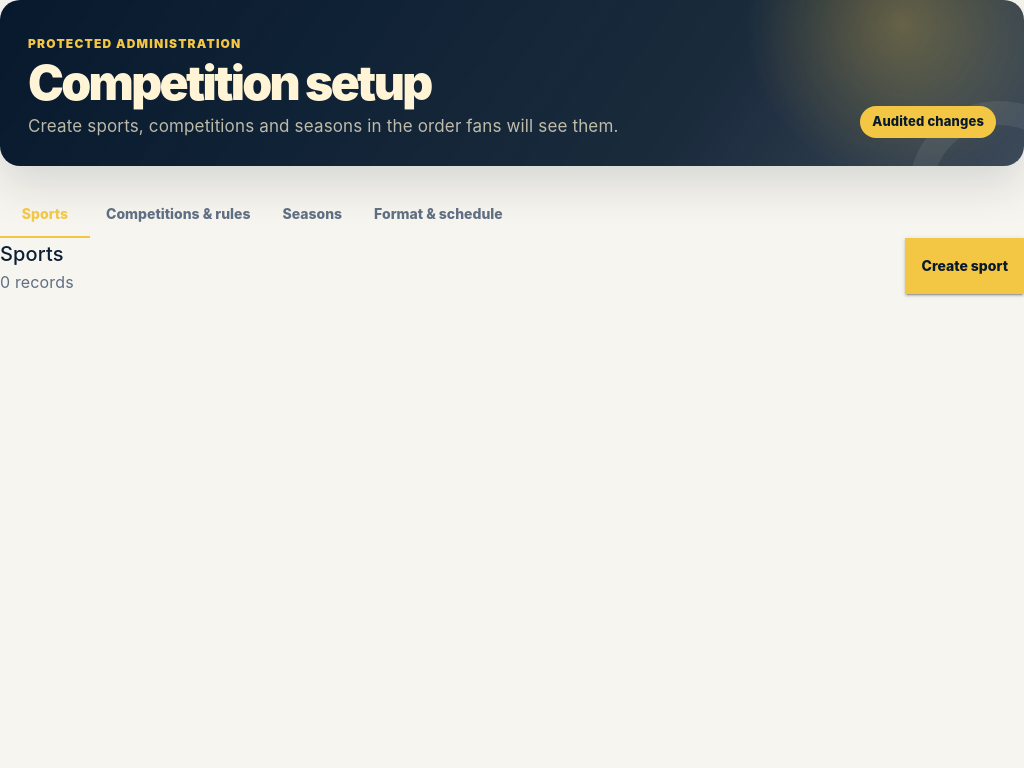
Test: Competition administration form › generates a season schedule from the competition format workspace
Click the tab "Format & schedule" at (438, 214), box [358, 190, 519, 238]
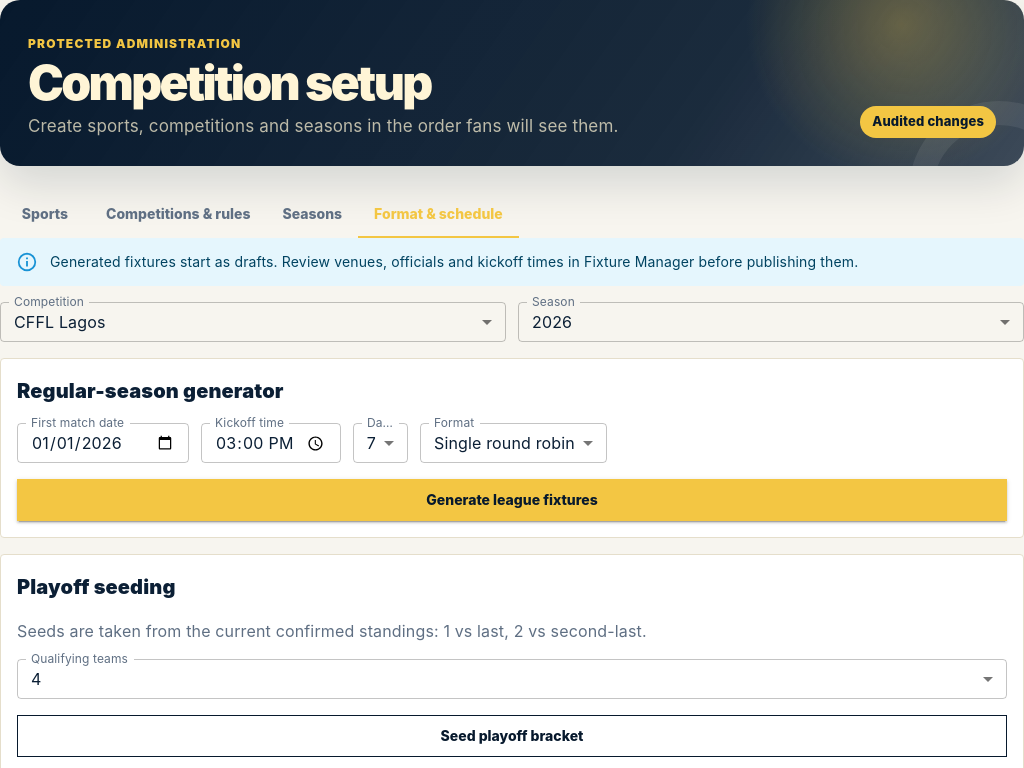
Now the button "Generate league fixtures" is enabled
Click the button "Generate league fixtures" at (512, 500), box [17, 479, 1007, 521]
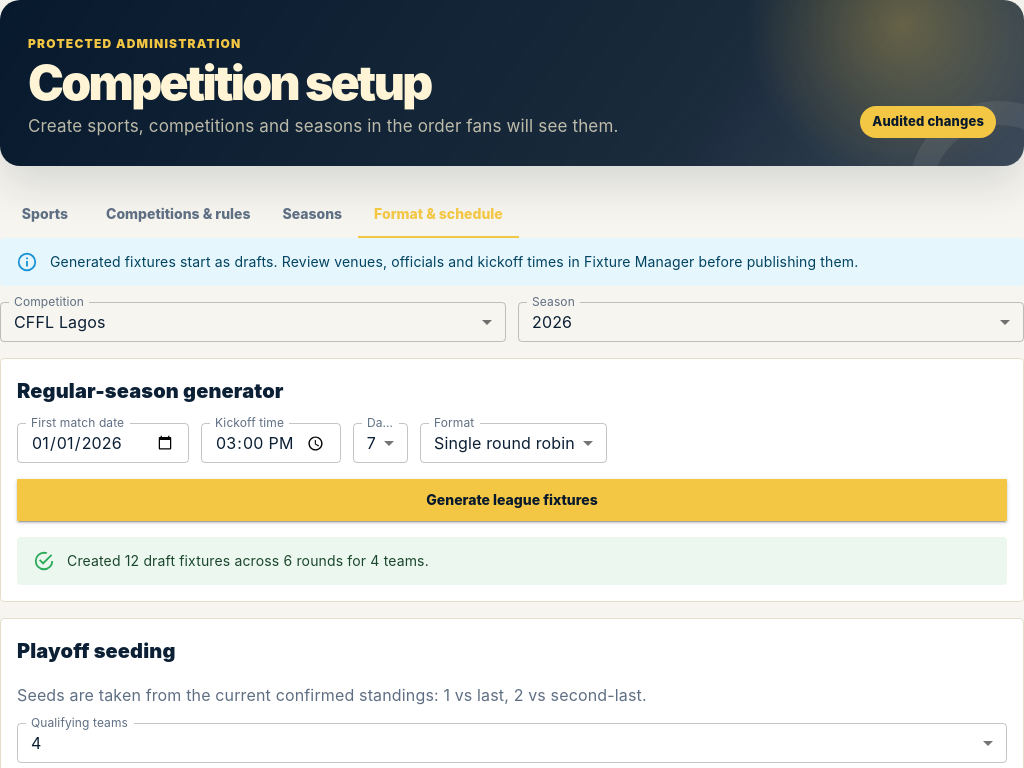
Now the text "Created 12 draft fixtures across 6 rounds for 4 teams." is shown, box [67, 552, 429, 569]
